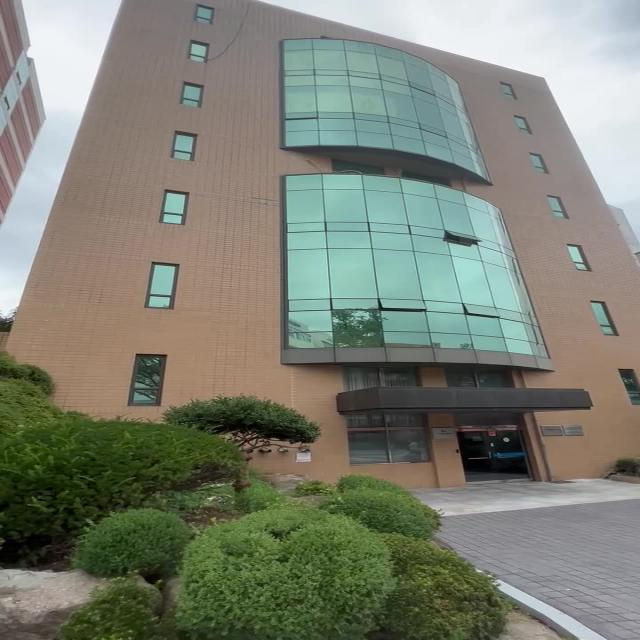building: (89, 16, 601, 401)
